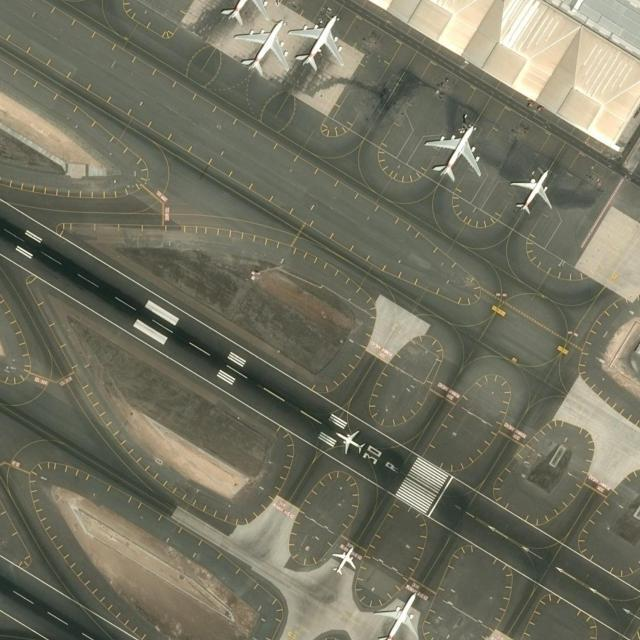Aircraft: (422, 115, 483, 186), (286, 7, 344, 72), (232, 11, 288, 77), (368, 587, 422, 640), (508, 163, 554, 215), (212, 0, 264, 29), (330, 424, 366, 458), (328, 539, 357, 575)
